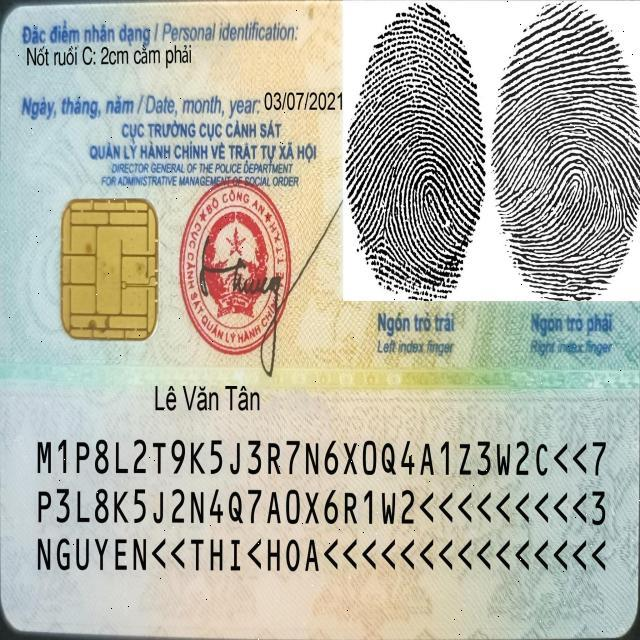features: (26, 41, 200, 70)
finger_print: (342, 2, 490, 356), (492, 6, 640, 354)
issue_date: (261, 86, 346, 116)
